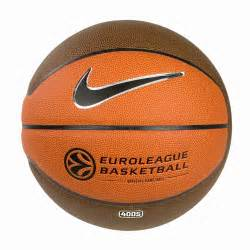basketball: (17, 19, 234, 234)
